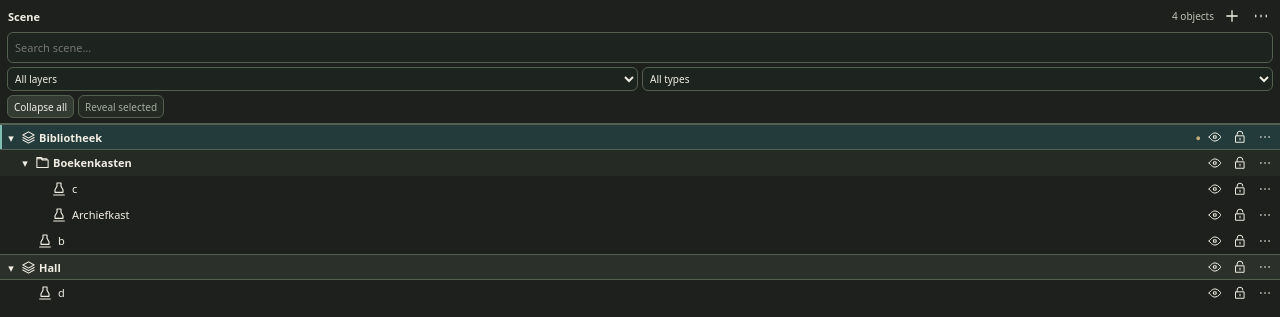
search retains exact Layer/Group context and keyboard expands, selects and renames
Type "archiefkast" into the search field at [640, 48], box [7,32,1273,63]
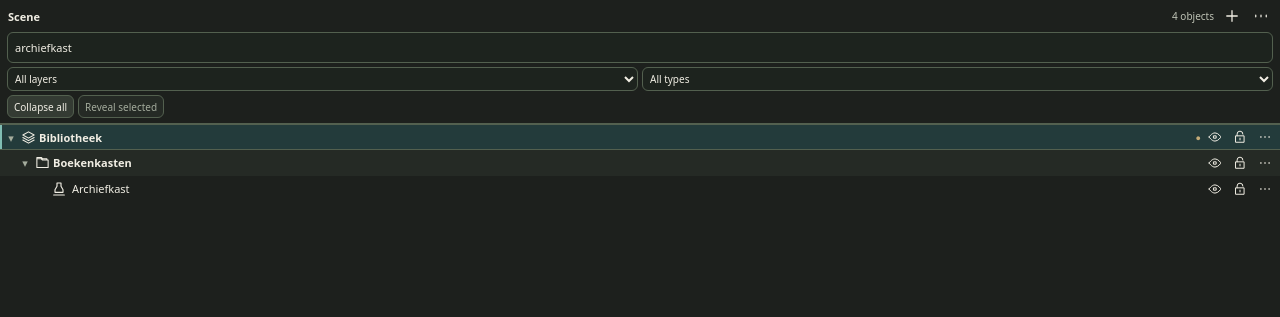
Press Enter in the list item "Archiefkast", box [0,176,1279,202]
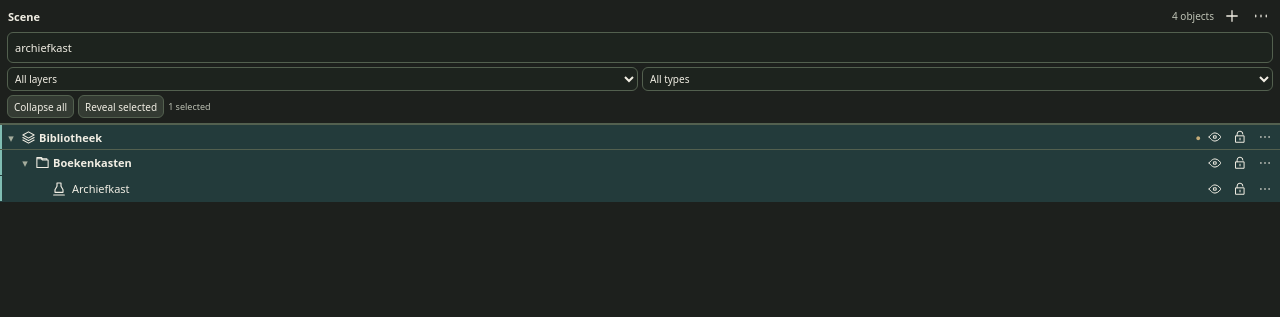
Press F2 in the list item "Archiefkast", box [0,176,1279,202]
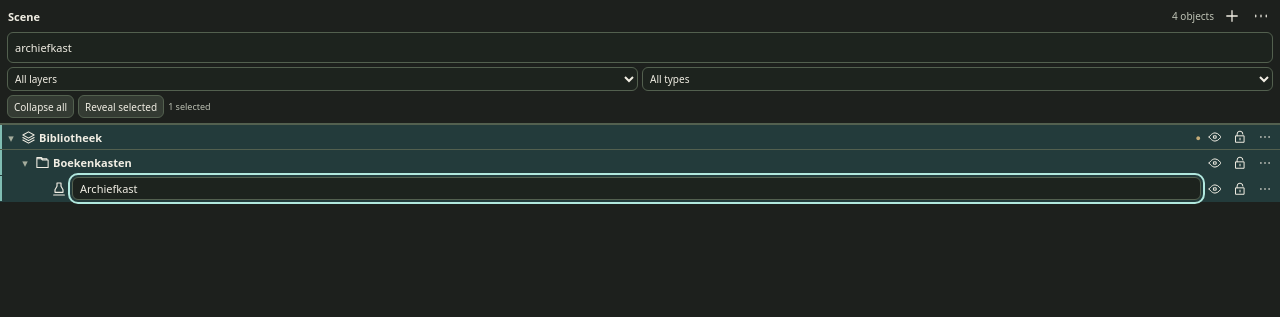
Replace the text in the field named "Rename Archiefkast" with "Royal archive" at [636, 188], box [72,177,1201,200]
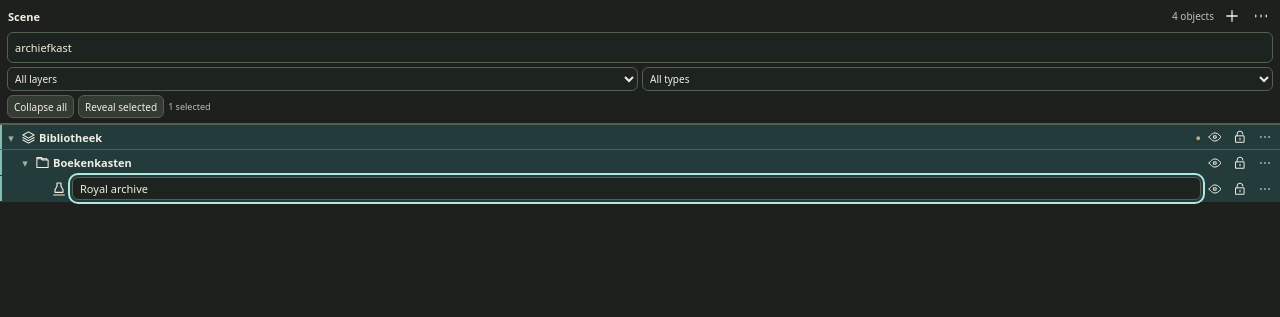
Press Enter in the field named "Rename Archiefkast", box [72,177,1201,200]
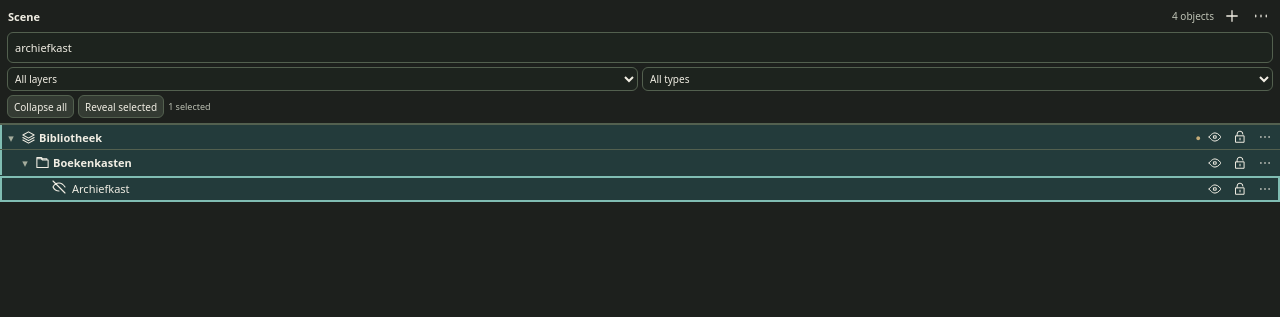
Expected: the text "Archiefkast" is shown, [72,181,130,196]
